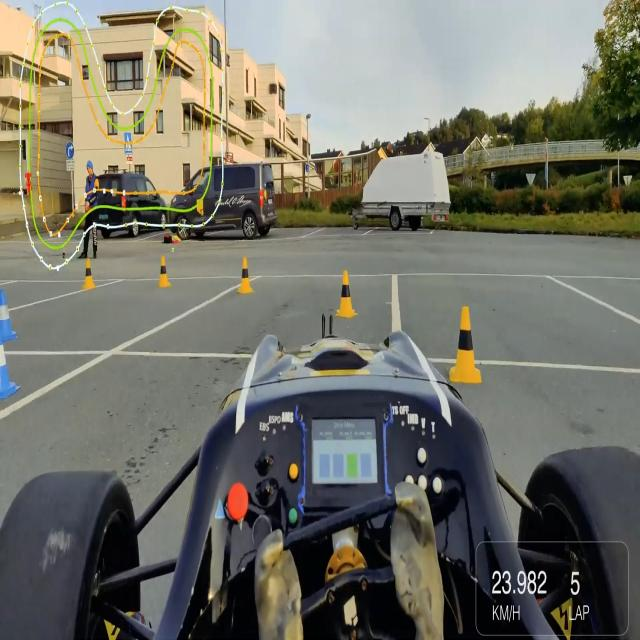blue_cone: (0, 338, 21, 402), (0, 282, 20, 345)
yellow_cone: (447, 303, 486, 384), (334, 268, 359, 320), (236, 255, 254, 298), (156, 254, 173, 291), (81, 258, 97, 292)
